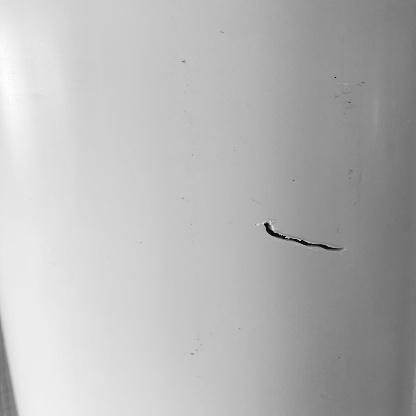fengxi: (258, 216, 354, 260)
